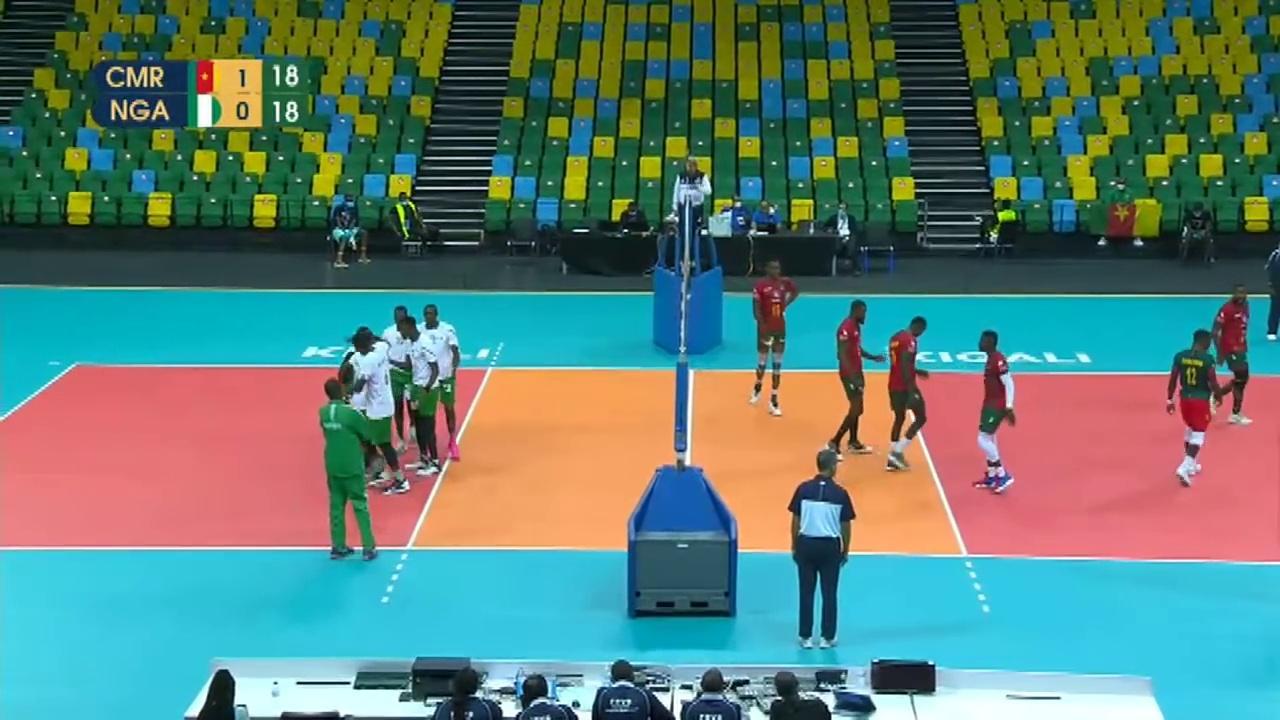player: (352, 332, 410, 493), (1166, 332, 1225, 484), (391, 319, 446, 479), (885, 314, 933, 472), (417, 303, 464, 464), (831, 301, 879, 457), (341, 322, 389, 477), (972, 330, 1017, 488), (752, 258, 799, 409), (384, 306, 428, 450), (1209, 288, 1252, 421)
refree: (786, 452, 858, 645), (674, 159, 708, 251), (1266, 236, 1280, 343)
